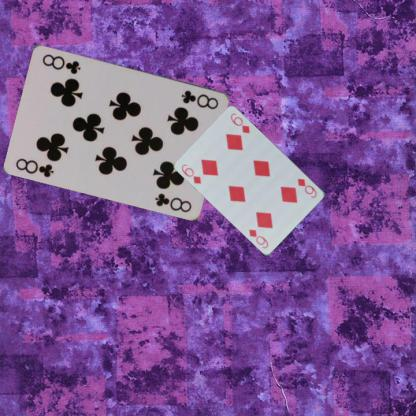6d: (179, 161, 203, 185), (295, 176, 318, 199)
8c: (13, 156, 56, 178), (179, 87, 220, 110)
